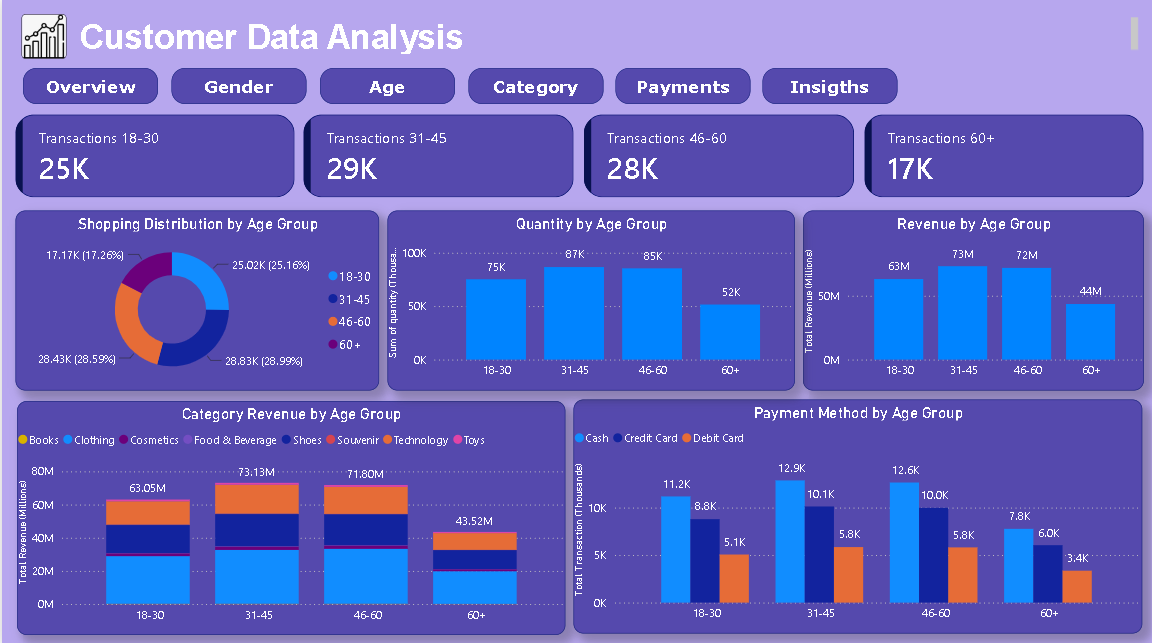

The dashboard page shown, as its layout file describes it:
{"tool":"powerbi","page":{"name":"Age Analysis","canvas":[1280,720],"ordinal":2},"visuals":[{"type":"cardVisual","fields":{"Data":["project_customer_segmentation customer.Transactions 18-30"]},"box":[15,127.5,310,92.5],"z":0},{"type":"textbox","box":[81.4,15.7,1185.7,50],"z":1000},{"type":"cardVisual","fields":{"Data":["project_customer_segmentation customer.Transactions 31-45"]},"box":[335,127.5,300,92.5],"z":2000},{"type":"cardVisual","fields":{"Data":["project_customer_segmentation customer.Transactions 46-60"]},"box":[646.2,127.5,300,92.5],"z":3000},{"type":"cardVisual","fields":{"Data":["project_customer_segmentation customer.Transactions 60+"]},"box":[957.5,127.5,310,92.5],"z":4000},{"type":"actionButton","box":[22.5,76.2,150,40],"z":5000},{"type":"actionButton","box":[187.5,76.2,150,40],"z":6000},{"type":"actionButton","box":[353.8,76.2,150,40],"z":7000},{"type":"actionButton","box":[518.8,76.2,150,40],"z":8000},{"type":"actionButton","box":[681.2,76.2,150,40],"z":9000},{"type":"actionButton","box":[845,76.2,150,40],"z":10000},{"type":"image","box":[22,16,50,50],"z":11000},{"type":"donutChart","title":"Shopping Distribution by Age Group","fields":{"Y":["CountNonNull(project_customer_segmentation customer.shopping_mall)"],"Category":["project_customer_segmentation customer.age_group"]},"box":[15,235,404.2,200],"z":12000},{"type":"columnChart","title":"Revenue by Age Group","fields":{"Y":["project_customer_segmentation customer.Total Revenue"],"Category":["project_customer_segmentation customer.age_group"]},"box":[890,235.6,378.9,200],"z":13000},{"type":"columnChart","title":"Category Revenue by Age Group","fields":{"Category":["project_customer_segmentation customer.age_group"],"Y":["project_customer_segmentation customer.Total Revenue"],"Series":["project_customer_segmentation customer.category"]},"box":[16,446,609,260],"z":14000},{"type":"clusteredColumnChart","title":"Payment Method by Age Group","fields":{"Category":["project_customer_segmentation customer.age_group"],"Series":["project_customer_segmentation customer.payment_method"],"Y":["project_customer_segmentation customer.Total Transaction"]},"box":[635.6,445.6,632.2,260],"z":15000},{"type":"columnChart","title":"Quantity by Age Group","fields":{"Y":["Sum(project_customer_segmentation customer.quantity)"],"Category":["project_customer_segmentation customer.age_group"]},"box":[428.6,235.7,452.9,200],"z":16000}]}

Visuals, with their boxes in screenshot pixels (x1, y1, x2, y2), scaled from the page's 1280x720 canvas onto the 1152x643 screenshot:
cardVisual - project_customer_segmentation customer.Transactions 18-30: bbox=(14, 114, 292, 196)
textbox: bbox=(73, 14, 1140, 59)
cardVisual - project_customer_segmentation customer.Transactions 31-45: bbox=(302, 114, 572, 196)
cardVisual - project_customer_segmentation customer.Transactions 46-60: bbox=(582, 114, 852, 196)
cardVisual - project_customer_segmentation customer.Transactions 60+: bbox=(862, 114, 1141, 196)
actionButton: bbox=(20, 68, 155, 104)
actionButton: bbox=(169, 68, 304, 104)
actionButton: bbox=(318, 68, 453, 104)
actionButton: bbox=(467, 68, 602, 104)
actionButton: bbox=(613, 68, 748, 104)
actionButton: bbox=(760, 68, 896, 104)
image: bbox=(20, 14, 65, 59)
"Shopping Distribution by Age Group" donutChart: bbox=(14, 210, 377, 388)
"Revenue by Age Group" columnChart: bbox=(801, 210, 1142, 389)
"Category Revenue by Age Group" columnChart: bbox=(14, 398, 562, 630)
"Payment Method by Age Group" clusteredColumnChart: bbox=(572, 398, 1141, 630)
"Quantity by Age Group" columnChart: bbox=(386, 210, 793, 389)
